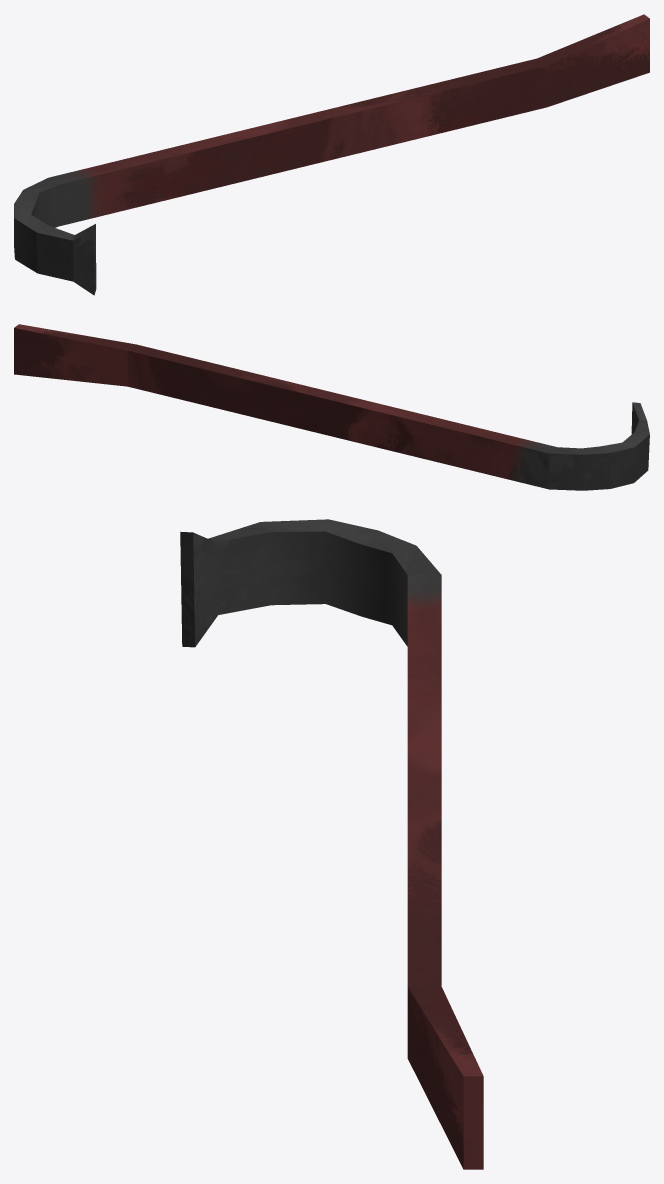
File: Exhibit3.fbx
3 renders of one model, top to bottom at view 1: azimuth 30°, elevation 25°; view 2: azimuth 150°, elevation 25°; view 3: azimuth 270°, elevation 25°, orthographic. The views are drawn at different scales.
Visible parts, largest first — view 1: Cube.016; view 2: Cube.016; view 3: Cube.016.
Part boxes in pixels (x1,y1,x2,y2): Cube.016: (14, 14, 649, 295); Cube.016: (14, 324, 649, 490); Cube.016: (180, 519, 483, 1169).
Size of the model in its own units: 96.52 by 9.37 by 21.79.
1 material, 1 textured.
